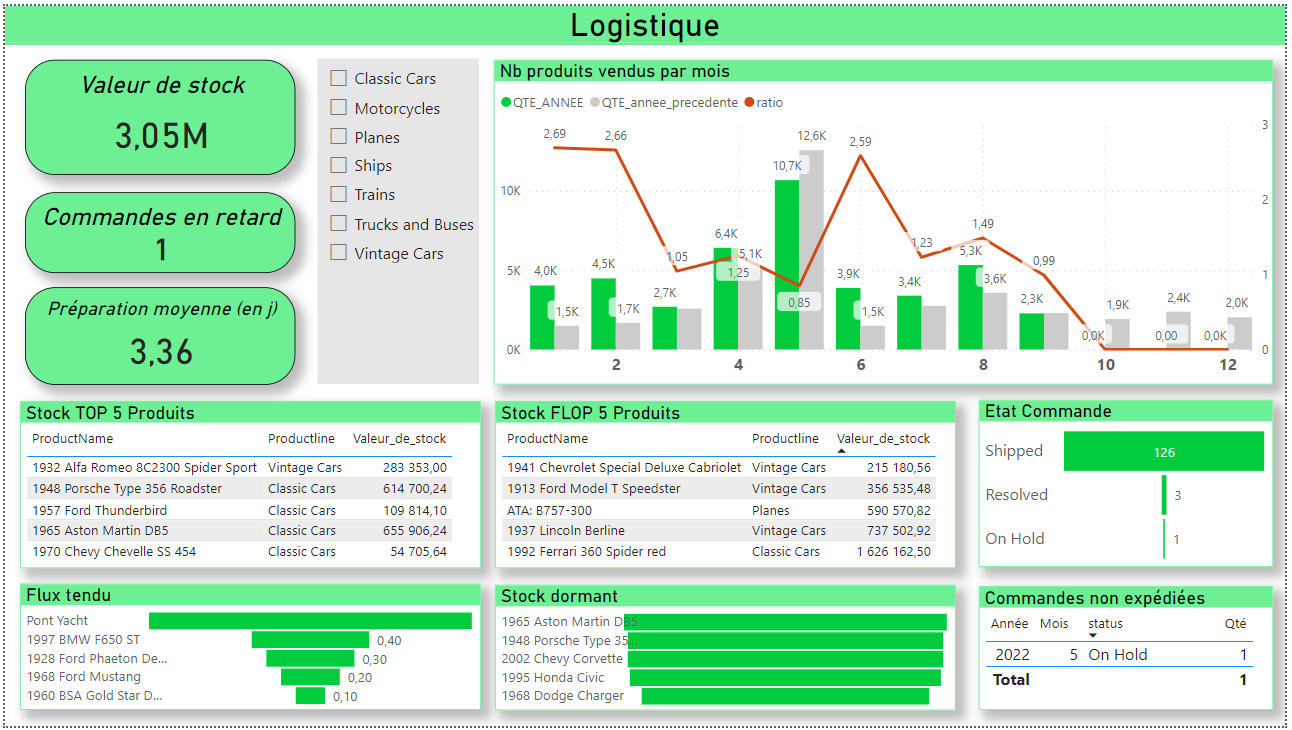

What the dashboard file says about the page in this screenshot:
{"tool":"powerbi","page":{"name":"LOG","canvas":[1280,720],"ordinal":3},"visuals":[{"type":"card","title":"Valeur de stock","fields":{"Values":["Sum(Log - Stock - Montant Stock.Valeur_Stock_Global)"]},"box":[20.2,53.3,270.7,115.2],"z":0},{"type":"tableEx","title":"Stock TOP 5 Produits","fields":{"Values":["Log - Stock - FLOP5Vente.ProductName","Log - Stock - FLOP5Vente.Productline","Sum(Log - Stock - FLOP5Vente.Valeur_de_stock)"]},"box":[14.4,394.6,460.8,167],"z":1000},{"type":"tableEx","title":"Stock FLOP 5 Produits","fields":{"Values":["Log - Stock - TOP5Vente.ProductName","Log - Stock - TOP5Vente.Productline","Sum(Log - Stock - TOP5Vente.Valeur_de_stock)"]},"box":[489.6,394.6,460.8,167],"z":2000},{"type":"funnel","title":"Flux tendu","fields":{"Y":["Sum(Log - Stock - Flux tendu.Couverture_Nb_Mois)"],"Category":["Log - Stock - Flux tendu.Nom_du_modèle"]},"box":[14.4,577.4,460.8,126.7],"z":3000},{"type":"funnel","title":"Stock dormant","fields":{"Y":["Sum(Log - Stock - Stock dormant.Couverture_Nb_Mois)"],"Category":["Log - Stock - Stock dormant.Nom_du_modèle"]},"box":[489.6,578.9,460.8,125.3],"z":4000},{"type":"shape","title":"Logistique","box":[0,0,1280,39],"z":5000},{"type":"lineClusteredColumnComboChart","title":"Nb produits vendus par mois","fields":{"Category":["Log - Stock - Qty_By_Month.month_order"],"Y":["Log - Stock - Qty_By_Month.QTE_ANNEE","Log - Stock - Qty_By_Month.QTE_annee_precedente"],"Y2":["Log - Stock - Qty_By_Month.ratio"]},"box":[489.1,53.4,779.2,324.6],"z":6000},{"type":"slicer","fields":{"Values":["Filtre - Lignes Produit.ProductLine"]},"box":[313,52.7,161.8,325.3],"z":7000},{"type":"card","title":"Commandes en retard","fields":{"Values":["Sum(Log - Stock - Nb_cde_retard.count(orderNumber))"]},"box":[20.2,185.8,270.7,80.6],"z":8000},{"type":"card","title":"Préparation moyenne (en j)","fields":{"Values":["Sum(Log - Stock - DélaiPrépaMoyen.AVG(DATEDIFF(shippedDate,orderDate)))"]},"box":[20.2,280.8,270.7,97.9],"z":9000},{"type":"funnel","title":"Etat Commande","fields":{"Category":["Log - Stock - Statut Commande.status"],"Y":["Sum(Log - Stock - Statut Commande.Nb)"]},"box":[973.9,393.9,294.3,167.4],"z":10000},{"type":"tableEx","title":"Commandes non expédiées","fields":{"Values":["Log - Stock - CommandesNonExpédiées.YEAR(orderdate)","Log - Stock - CommandesNonExpédiées.MONTH(orderdate)","Log - Stock - CommandesNonExpédiées.status","Sum(Log - Stock - CommandesNonExpédiées.count(orderNumber))"]},"box":[973.9,580,294.3,124.1],"z":11000}]}

Visuals, with their boxes in screenshot pixels (x1, y1, x2, y2), scaled from the page's 1280x720 canvas onto the 1292x730 screenshot:
"Valeur de stock" card: (20,54,294,171)
"Stock TOP 5 Produits" tableEx: (15,400,480,569)
"Stock FLOP 5 Produits" tableEx: (494,400,959,569)
"Flux tendu" funnel: (15,585,480,714)
"Stock dormant" funnel: (494,587,959,714)
"Logistique" shape: (0,0,1291,40)
"Nb produits vendus par mois" lineClusteredColumnComboChart: (494,54,1280,383)
slicer - Filtre - Lignes Produit.ProductLine: (316,53,479,383)
"Commandes en retard" card: (20,188,294,270)
"Préparation moyenne (en j)" card: (20,285,294,384)
"Etat Commande" funnel: (983,399,1280,569)
"Commandes non expédiées" tableEx: (983,588,1280,714)
